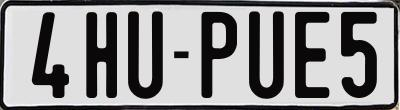4: (31, 11, 72, 97)
5: (339, 10, 375, 99)
E: (293, 11, 333, 99)
H: (83, 10, 116, 101)
P: (201, 9, 243, 95)
U: (127, 10, 166, 100), (246, 11, 283, 101)
